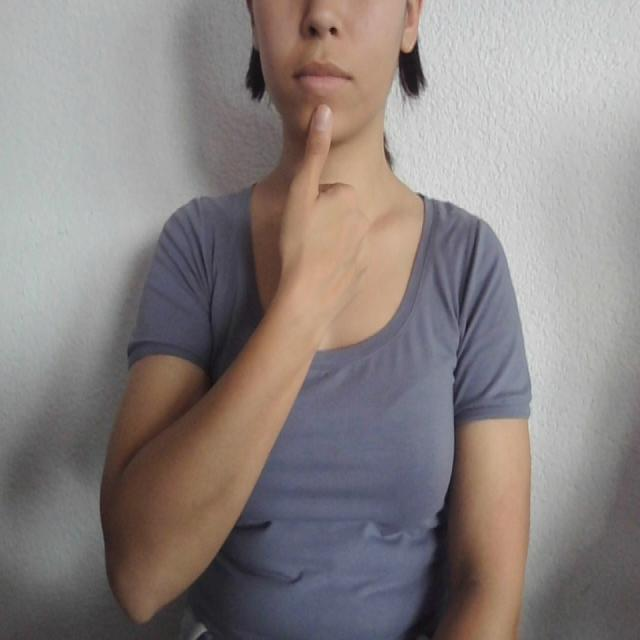Baba: (280, 57, 358, 188)
